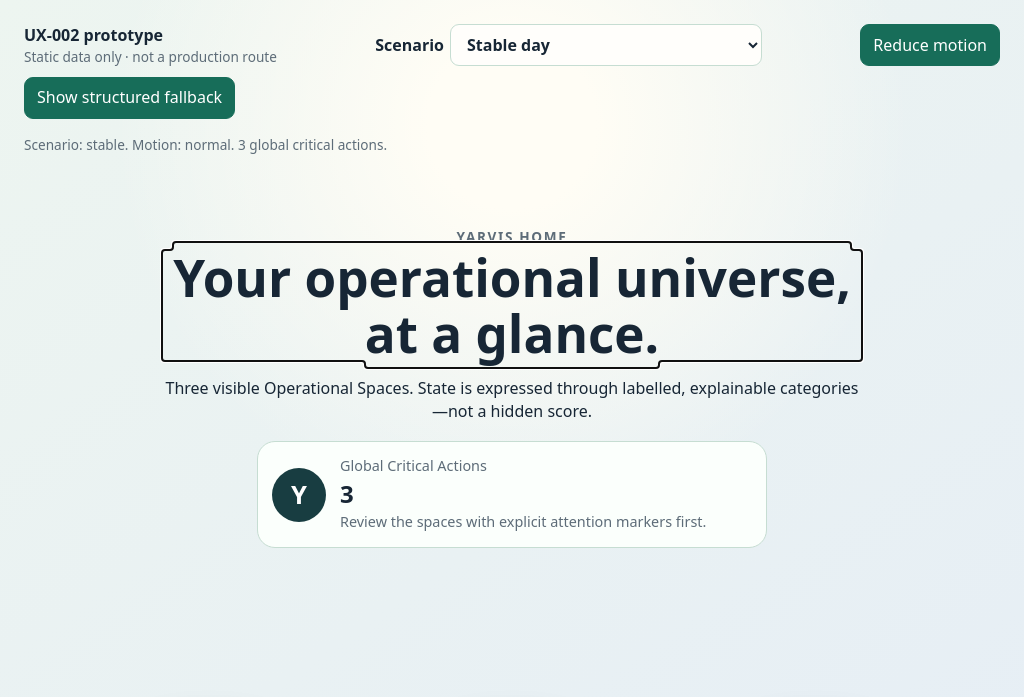
Test case: YarvisExperiencePrototype › provides a reduced-motion control without losing labels or navigation
This screenshot has width=1024, height=697.
Click the button "Reduce motion".
click(930, 45)  # box [860, 24, 1000, 66]
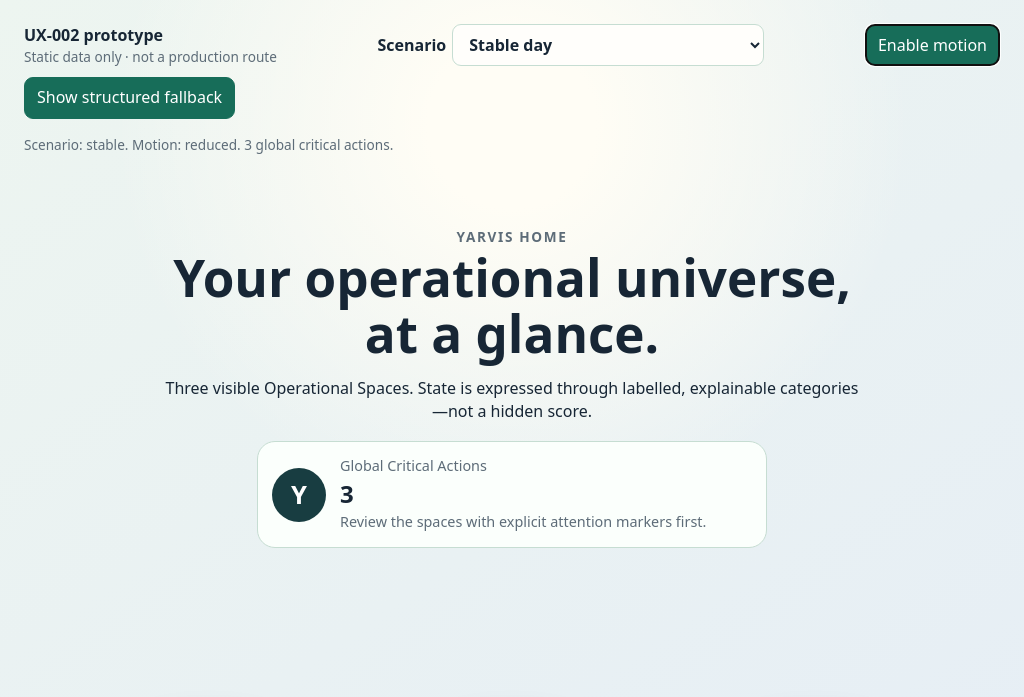
Now the button "Enable motion" is shown, box [865, 24, 1000, 66]
